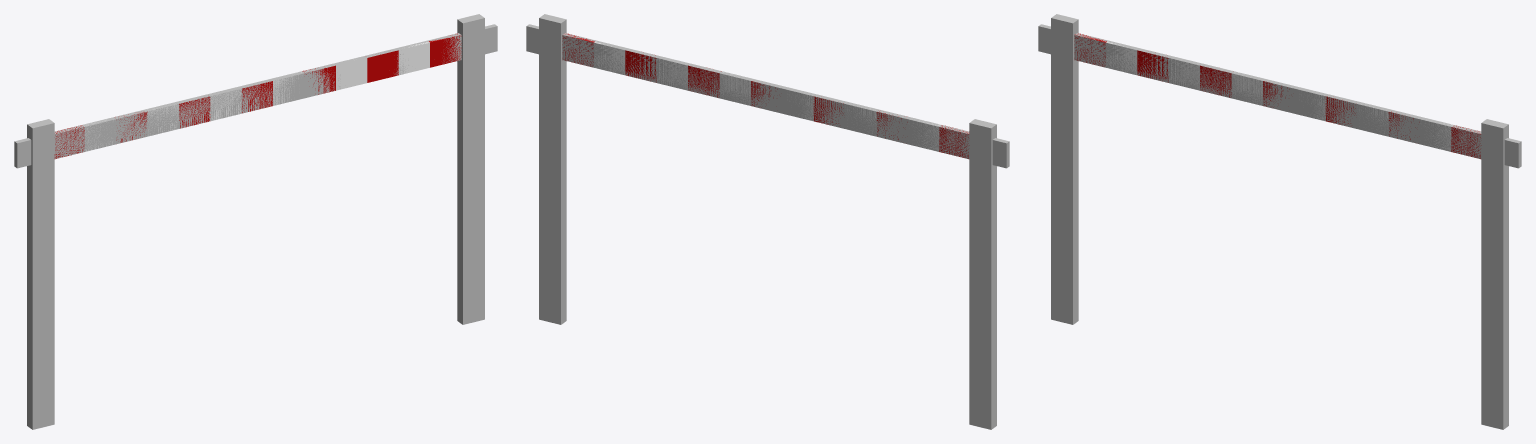
The model's file is barrier.obj.
The picture shows the model from 3 angles, left to right: view 1: azimuth 30°, elevation 25°; view 2: azimuth 150°, elevation 25°; view 3: azimuth 330°, elevation 25°; orthographic projection.
Parts seen in each view (by area): view 1: Obstacle_Cube, Paint_Cube.002; view 2: Obstacle_Cube, Paint_Cube.002; view 3: Obstacle_Cube, Paint_Cube.002.
Boxes of the visible parts, x1,y1,x2,y2 form: Obstacle_Cube: (14, 14, 497, 429); Paint_Cube.002: (54, 33, 461, 158); Obstacle_Cube: (526, 14, 1009, 429); Paint_Cube.002: (562, 33, 969, 158); Obstacle_Cube: (1038, 14, 1521, 429); Paint_Cube.002: (1074, 33, 1481, 158).
Size of the model in its own units: 2 by 1.2 by 0.04.
